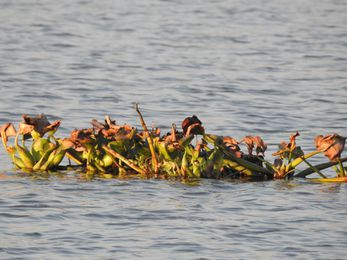water_hyacinth: (0, 106, 345, 189)
